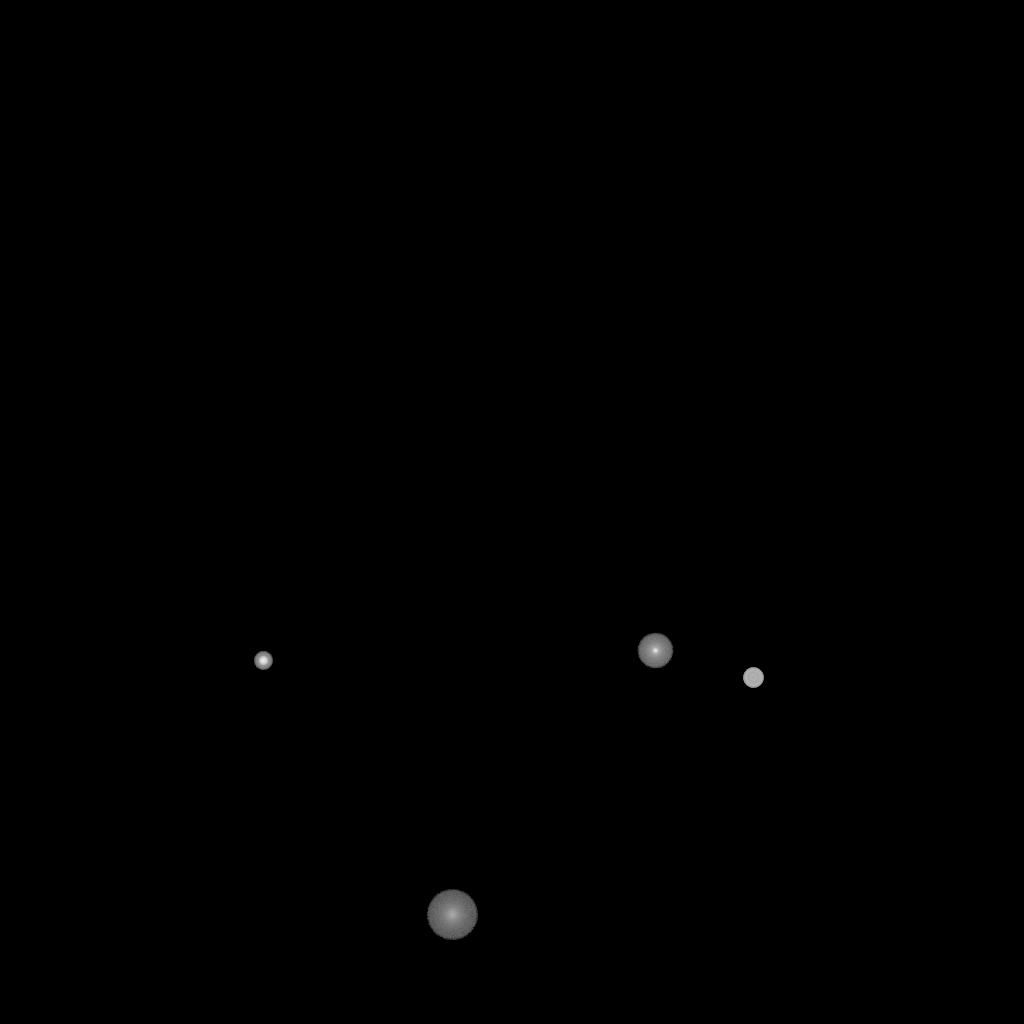depth:-20: (254, 652, 272, 670)
depth:-40: (743, 668, 763, 688)
depth:0: (637, 633, 673, 669)
depth:20: (426, 890, 478, 940)
